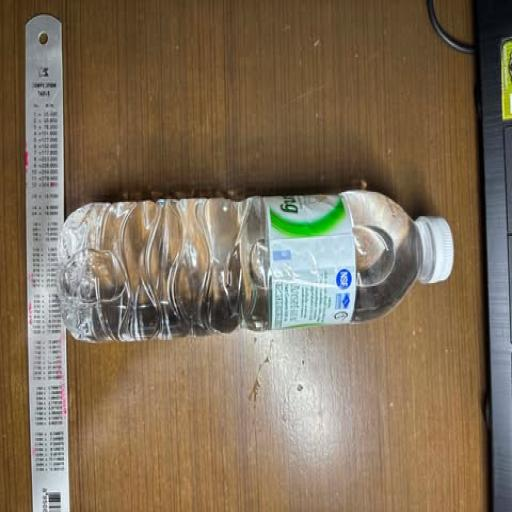bottle: (42, 169, 466, 379)
